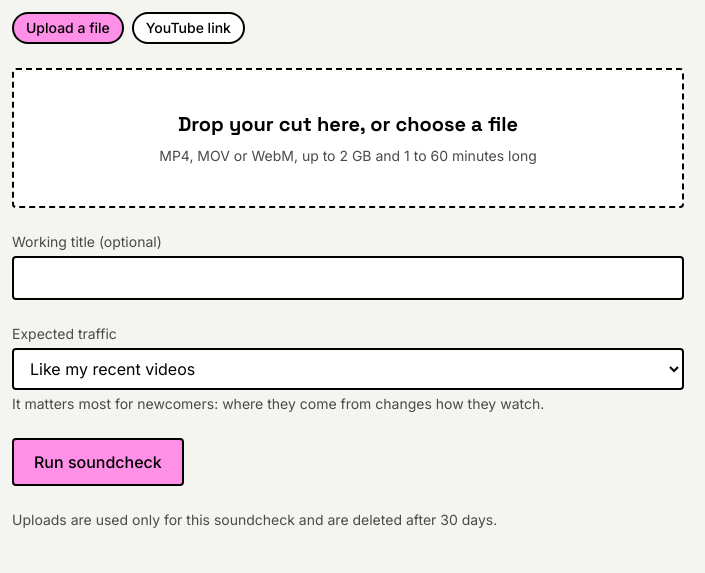
SoundcheckForm › explains what the API refused
Click the radio button labelled "YouTube link" at (188, 28), box [132,12,245,44]
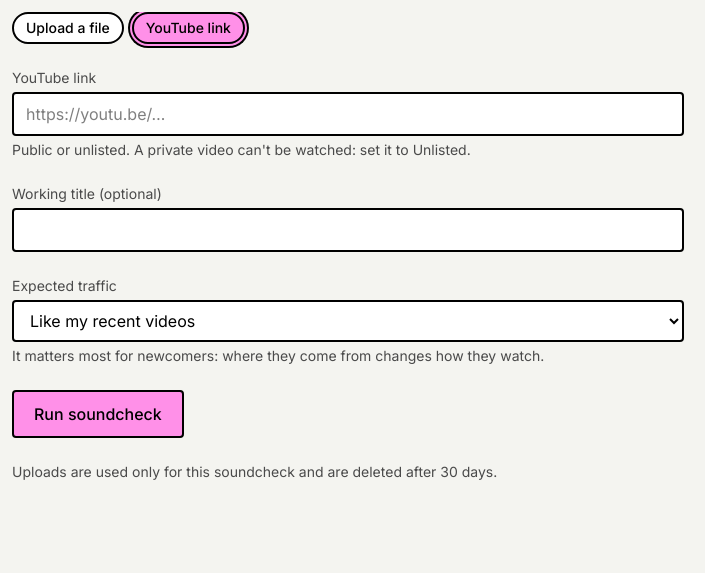
Click the field labelled "YouTube link" at (348, 114), box [12,92,684,136]
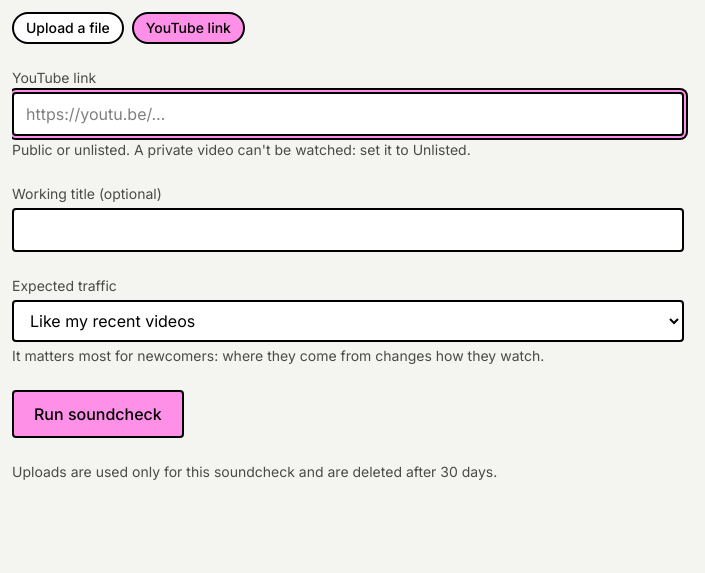
Type keys "https://youtu.be/lgxOjPdCGkw"
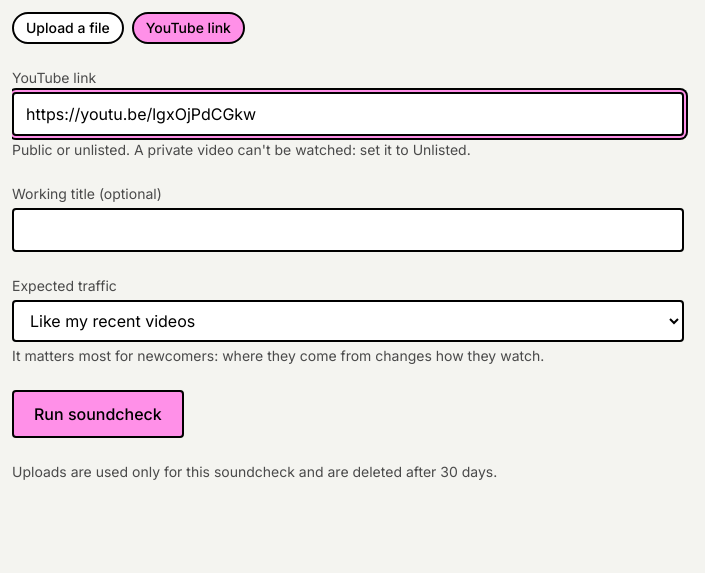
Click the button "Run soundcheck" at (98, 414), box [12,390,184,438]
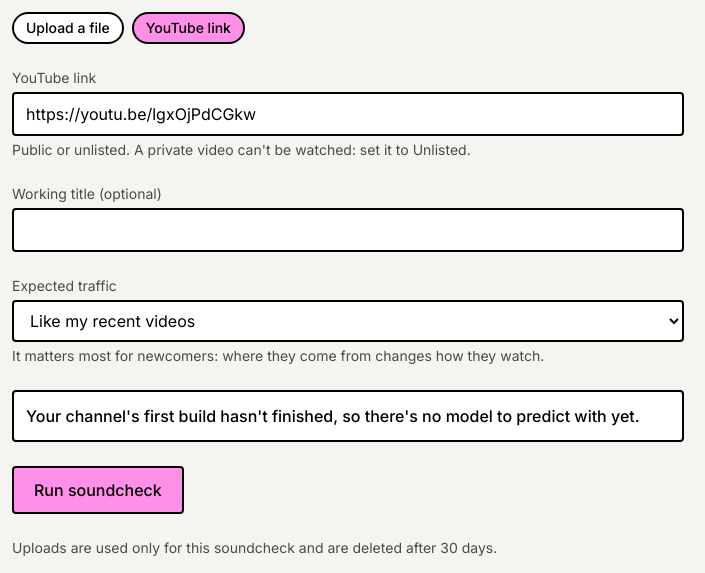
expect the message shows "first build hasn't finished": met, box [26,406,640,426]
